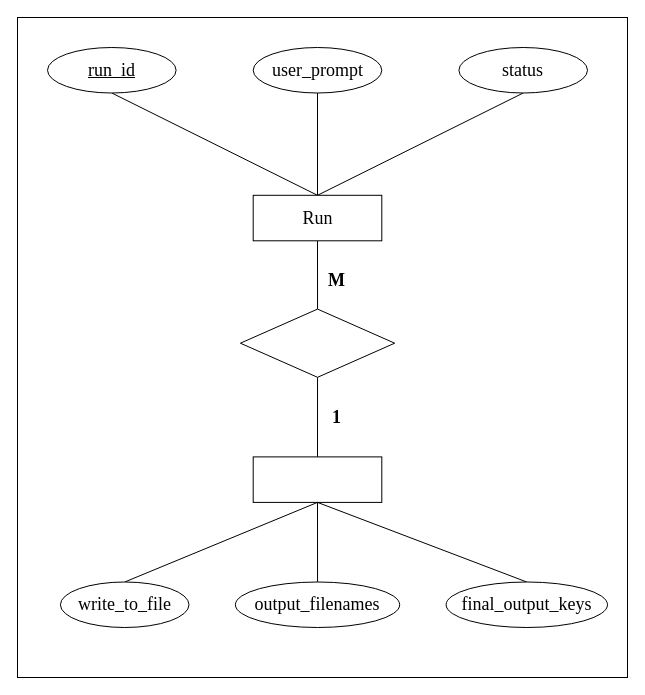
Some shapes in this 645 by 695 pixel diagram are drawn without their labels. Each missing label, with the centre of its shape:
"Has Plan" belongs at pixel 317 342.
"Task Plan" belongs at pixel 317 479.
